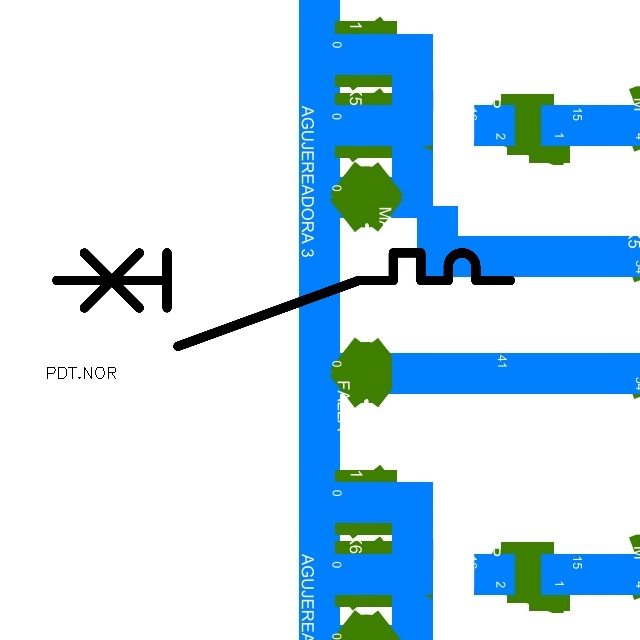interruptor_termomagnetico: (45, 241, 522, 358)
